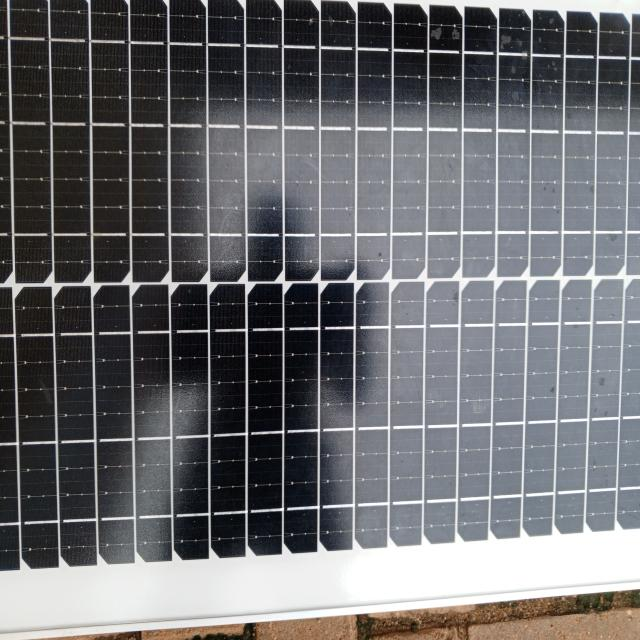Clean: (7, 11, 640, 579)
